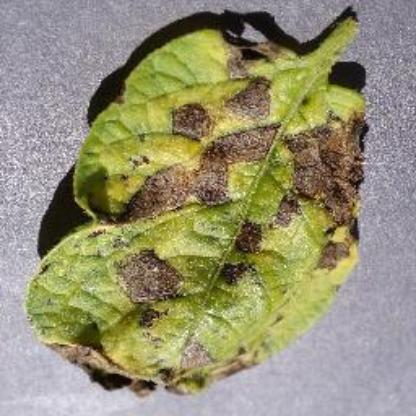Early-Blight: (26, 5, 398, 401)
